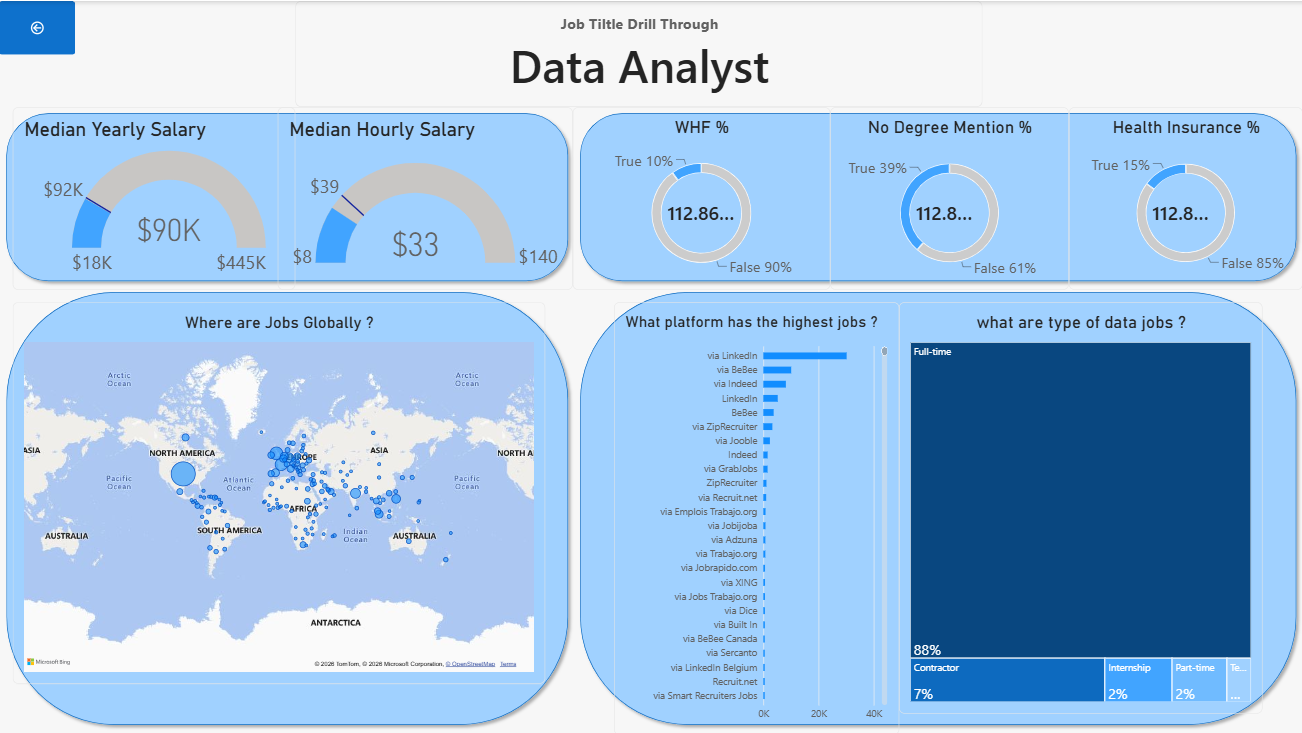

This screenshot's page, from the dashboard's own definition file:
{"tool":"powerbi","page":{"name":"Job Tiltle Drill Through","canvas":[1920,1080],"ordinal":1},"visuals":[{"type":"group","id":"g1","title":"Background","box":[1.8,156.4,1917.8,918.4],"z":0},{"type":"shape","box":[847,156.4,1072.7,265],"z":0,"group":"g1"},{"type":"cardVisual","fields":{"Data":["Min(job_postings_flat.job_title_short)1"]},"box":[436.2,0,1012.3,156.4],"z":1000},{"type":"shape","box":[1.8,156.4,845.2,265],"z":1000,"group":"g1"},{"type":"actionButton","box":[0,0,112.3,79.1],"z":2000},{"type":"shape","box":[1.8,419.4,845.2,655.3],"z":2000,"group":"g1"},{"type":"gauge","title":"Median Yearly Salary","fields":{"MaxValue":["Max(job_postings_flat.salary_year_avg)2"],"MinValue":["Min(job_postings_flat.salary_year_avg)1"],"TargetValue":["Avg(job_postings_flat.salary_year_avg)3"],"Y":["Median(job_postings_flat.salary_year_avg)"]},"box":[20.2,156.4,416,268.7],"z":3000},{"type":"shape","box":[847,419.4,1072.7,655.3],"z":3000,"group":"g1"},{"type":"gauge","title":"Median Hourly Salary","fields":{"MaxValue":["Max(job_postings_flat.salary_hour_avg)"],"MinValue":["Min(job_postings_flat.salary_hour_avg)"],"TargetValue":["Avg(job_postings_flat.salary_hour_avg)1"],"Y":["Median(job_postings_flat.salary_hour_avg)"]},"box":[410.4,156.4,434.4,268.7],"z":4000},{"type":"donutChart","title":"No Degree Mention %","fields":{"Category":["job_postings_flat.job_no_degree_mention"],"Y":["CountNonNull(job_postings_flat.job_no_degree_mention)"]},"box":[1223.9,156.4,351.5,268.7],"z":5000},{"type":"donutChart","title":"Health Insurance %","fields":{"Category":["job_postings_flat.job_health_insurance"],"Y":["CountNonNull(job_postings_flat.job_health_insurance)"]},"box":[1575.5,156.4,344.2,268.7],"z":6000},{"type":"donutChart","title":"WHF %","fields":{"Category":["job_postings_flat.job_work_from_home"],"Y":["CountNonNull(job_postings_flat.job_work_from_home)"]},"box":[844.8,156.4,379.1,268.7],"z":7000},{"type":"map","title":"Where are Jobs Globally ?","fields":{"Category":["job_postings_flat.job_country"],"Size":["CountNonNull(job_postings_flat.job_title_short)"]},"box":[20.2,443.6,784.1,561.4],"z":8000},{"type":"treemap","title":"what are type of data jobs ?","fields":{"Group":["job_postings_flat.job_schedule_type"],"Values":["CountNonNull(job_postings_flat.job_schedule_type)"]},"box":[1325.2,443.6,535.6,605.5],"z":9000},{"type":"barChart","title":"What platform has the highest jobs ?","fields":{"Category":["job_postings_flat.job_via"],"Y":["CountNonNull(job_postings_flat.job_via)"]},"box":[905.5,443.6,419.6,636.8],"z":10000}]}

Visuals, with their boxes in screenshot pixels (x1, y1, x2, y2), scaled from the page's 1920x1080 canvas onto the 1302x733 screenshot:
"Background" group: {"x1": 1, "y1": 106, "x2": 1301, "y2": 729}
shape: {"x1": 574, "y1": 106, "x2": 1301, "y2": 286}
cardVisual - Min(job_postings_flat.job_title_short)1: {"x1": 296, "y1": 0, "x2": 982, "y2": 106}
shape: {"x1": 1, "y1": 106, "x2": 574, "y2": 286}
actionButton: {"x1": 0, "y1": 0, "x2": 76, "y2": 54}
shape: {"x1": 1, "y1": 285, "x2": 574, "y2": 729}
"Median Yearly Salary" gauge: {"x1": 14, "y1": 106, "x2": 296, "y2": 289}
shape: {"x1": 574, "y1": 285, "x2": 1301, "y2": 729}
"Median Hourly Salary" gauge: {"x1": 278, "y1": 106, "x2": 573, "y2": 289}
"No Degree Mention %" donutChart: {"x1": 830, "y1": 106, "x2": 1068, "y2": 289}
"Health Insurance %" donutChart: {"x1": 1068, "y1": 106, "x2": 1301, "y2": 289}
"WHF %" donutChart: {"x1": 573, "y1": 106, "x2": 830, "y2": 289}
"Where are Jobs Globally ?" map: {"x1": 14, "y1": 301, "x2": 545, "y2": 682}
"what are type of data jobs ?" treemap: {"x1": 899, "y1": 301, "x2": 1262, "y2": 712}
"What platform has the highest jobs ?" barChart: {"x1": 614, "y1": 301, "x2": 899, "y2": 732}
